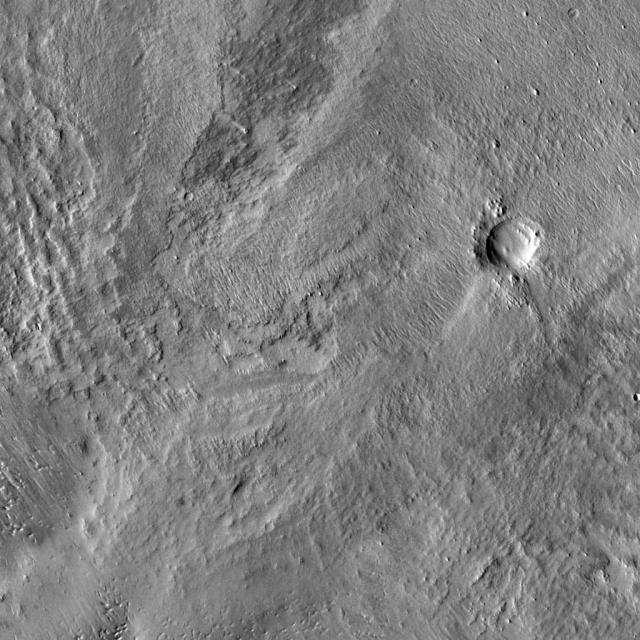crater: (490, 221, 542, 274), (572, 8, 584, 20), (188, 194, 198, 205), (407, 70, 415, 78)
